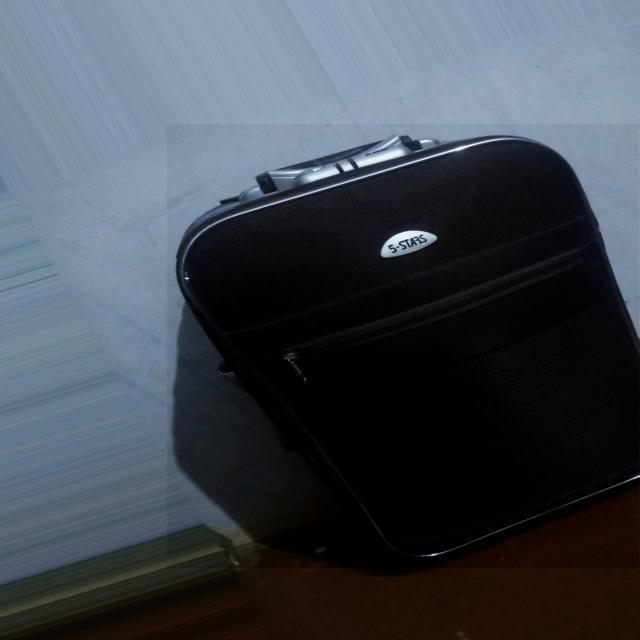Suitcase: (170, 119, 640, 549)
